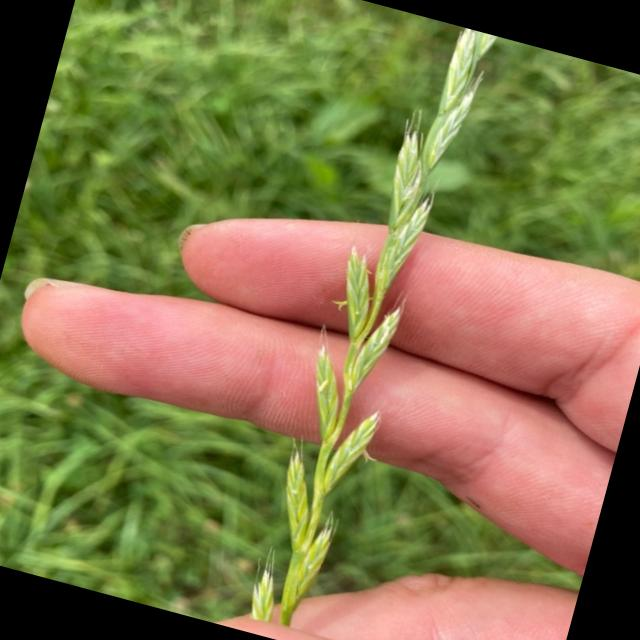Lolium: (237, 12, 501, 640)
